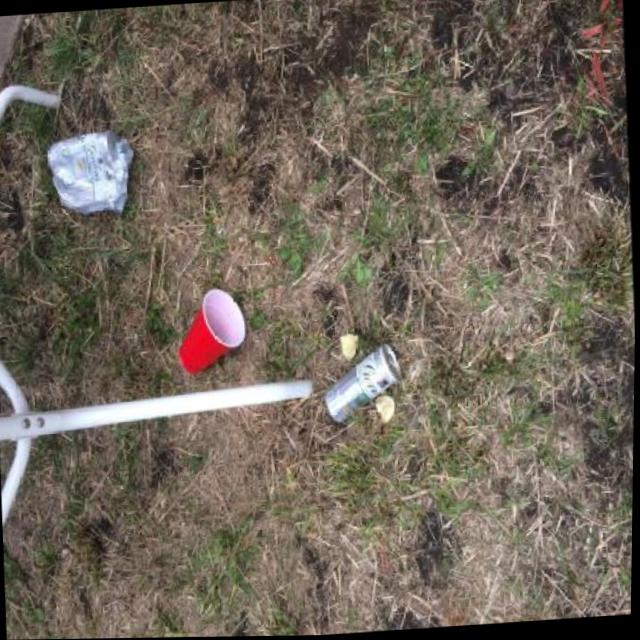metal: (323, 342, 405, 425)
plastic: (48, 127, 139, 221), (176, 287, 250, 376)
